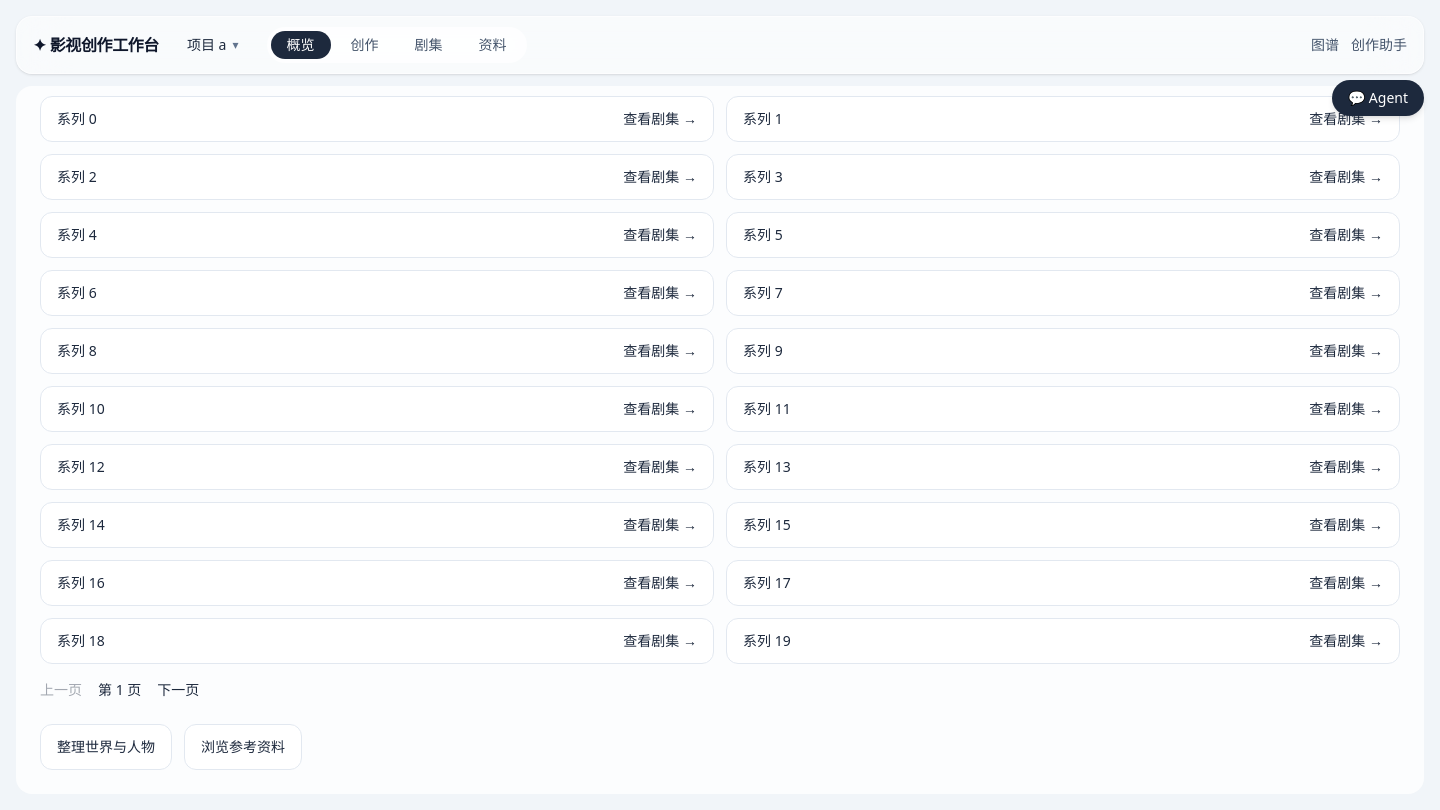
Test: pagination exposes records after the first page
(page scrolled)
What coordinates should you click on to do the following:
click the button "下一页"
I would click on:
 (178, 690)
Its box is [157,680,199,700].
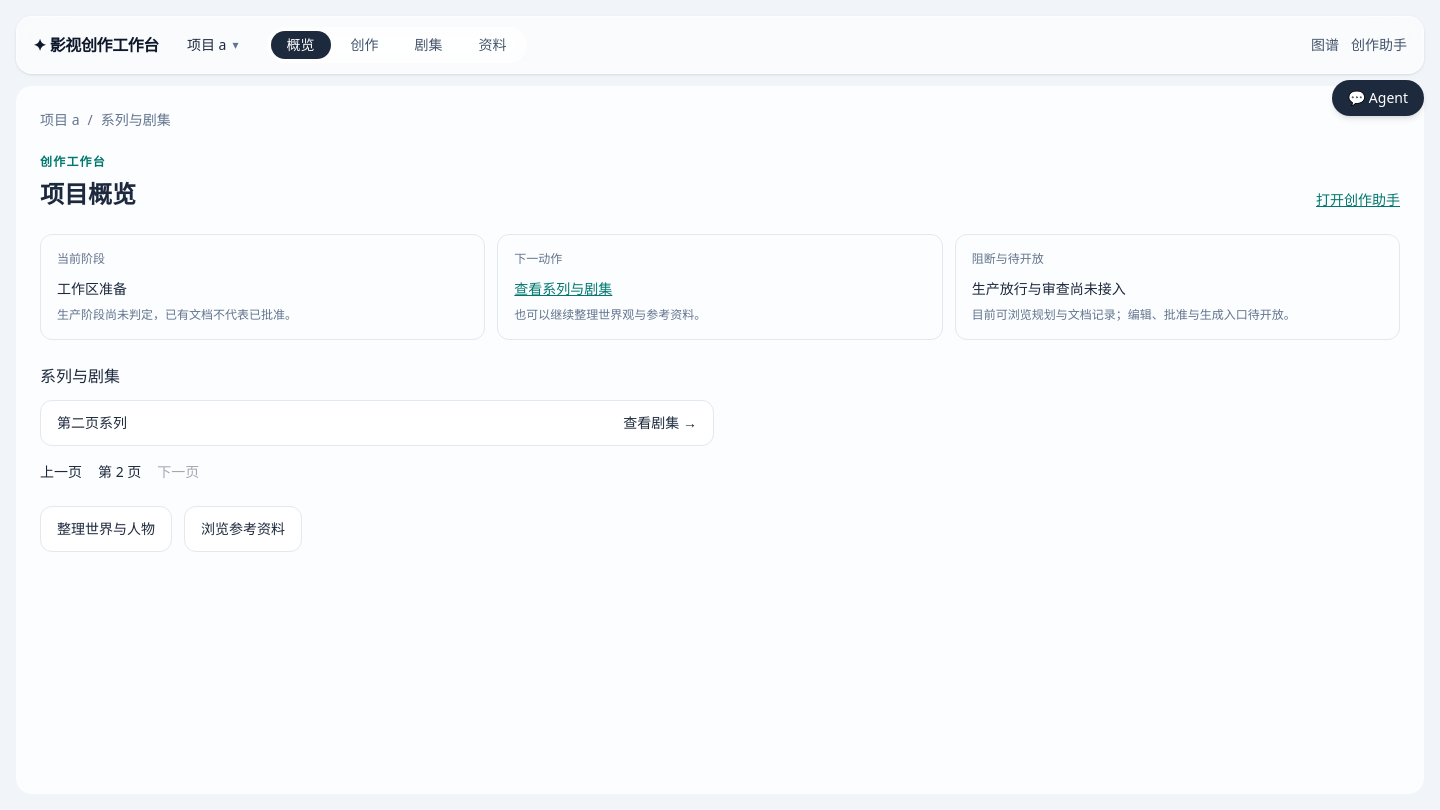
Now the link "第二页系列 查看剧集 →" is shown, box [40,400,714,446]
Now the button "下一页" is disabled, box [157,462,199,482]
